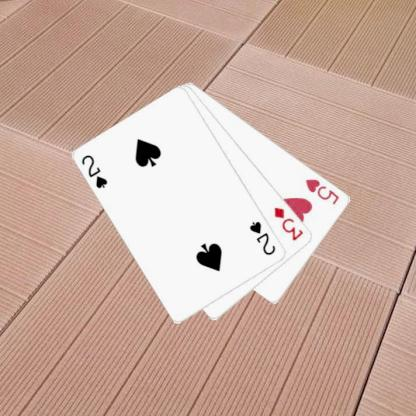2S: (247, 219, 278, 257), (79, 152, 109, 190)
3D: (272, 204, 305, 242)
5H: (303, 176, 341, 206)
